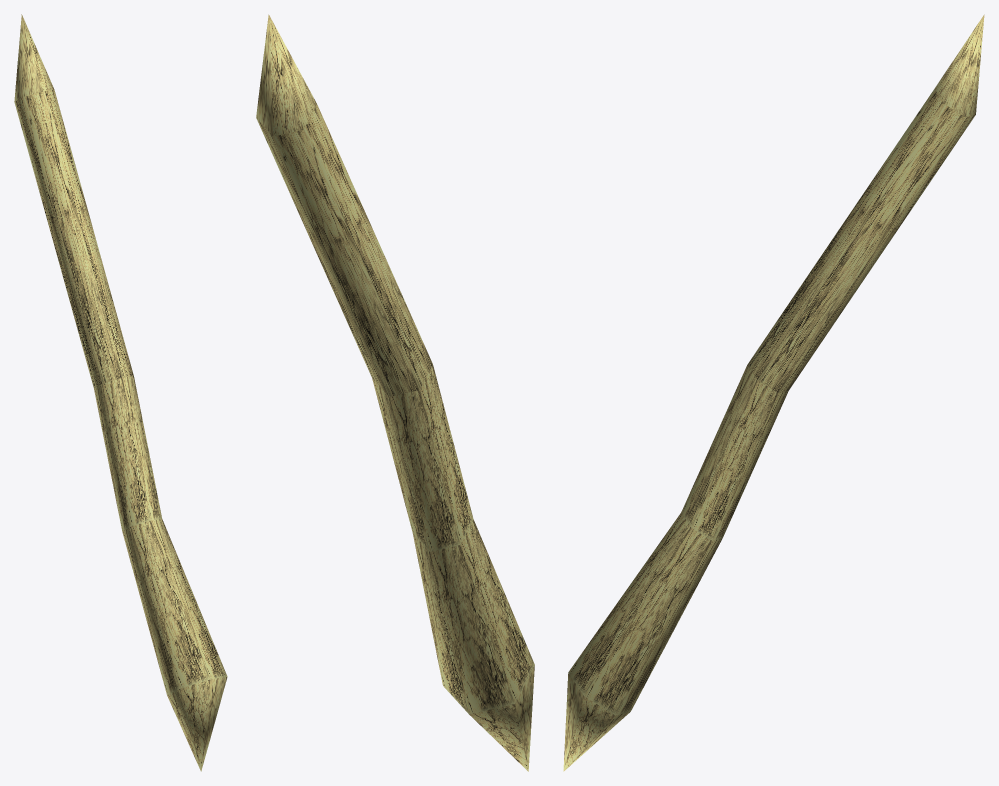
The model's file is Espinho.fbx.
3 views of the same model, side by side, from view 1: azimuth 30°, elevation 25°; view 2: azimuth 150°, elevation 25°; view 3: azimuth 270°, elevation 25° (orthographic). The views are drawn at different scales.
Parts seen in each view (by area): view 1: Espinho; view 2: Espinho; view 3: Espinho.
Boxes of the visible parts, x1,y1,x2,y2 form: Espinho: [14, 14, 227, 771]; Espinho: [256, 14, 534, 771]; Espinho: [563, 14, 984, 771].
Bounding box in the file's own units: 5.22 × 58.06 × 29.31.
